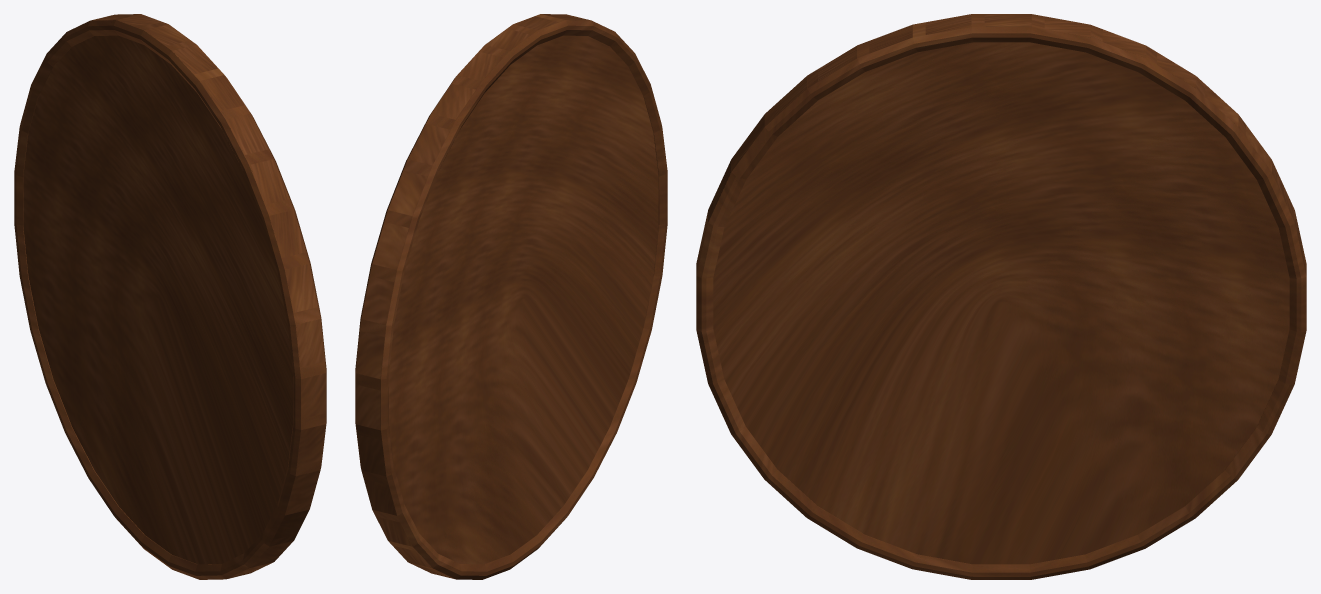
The model's file is Window02O_3x3_light.fbx.
3 views of the same model, side by side, from view 1: azimuth 30°, elevation 25°; view 2: azimuth 150°, elevation 25°; view 3: azimuth 270°, elevation 25° (orthographic). The views are drawn at different scales.
Parts seen in each view (by area): view 1: Circle#3, window#2; view 2: Circle#3, window#2; view 3: Circle#3, window#2.
Boxes of the visible parts, x1,y1,x2,y2 form: Circle#3: (23, 14, 325, 576); window#2: (14, 14, 326, 579); Circle#3: (356, 14, 658, 578); window#2: (355, 14, 667, 579); Circle#3: (699, 14, 1306, 564); window#2: (696, 14, 1306, 579).
Bounding box in the file's own units: 0.3796 × 6 × 6.
Materials: 2 (2 with a texture image).
